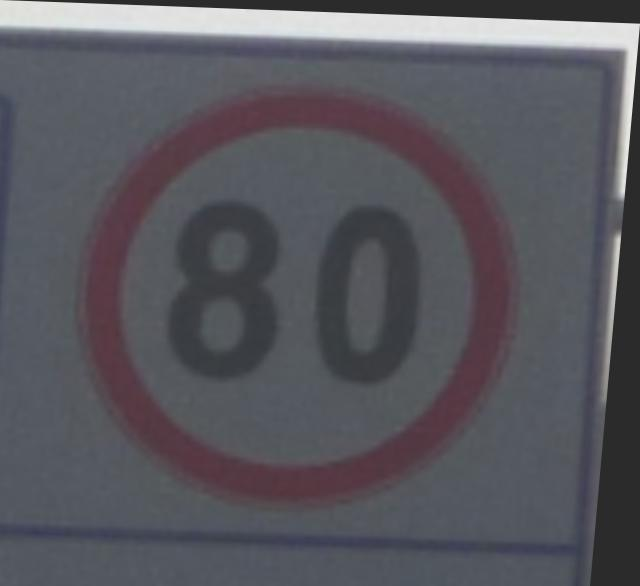limit80: (57, 67, 554, 520)
